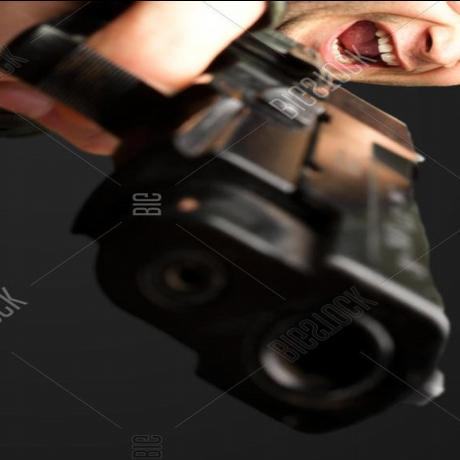1: (0, 0, 460, 152)
weapon: (0, 55, 449, 439)
